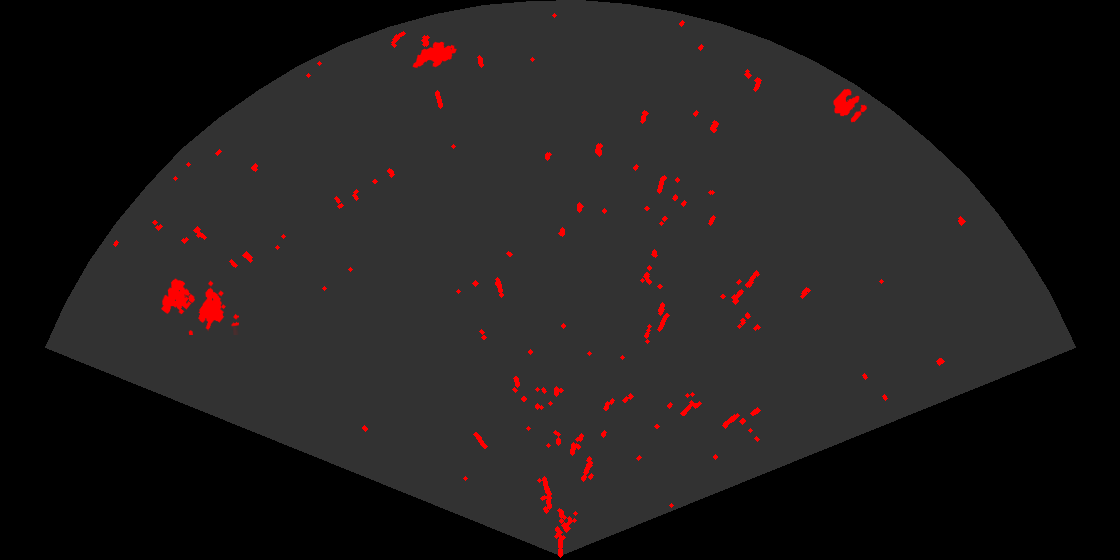AUV: (411, 40, 458, 70)
ball: (832, 87, 869, 124)
cage: (159, 277, 239, 335)
